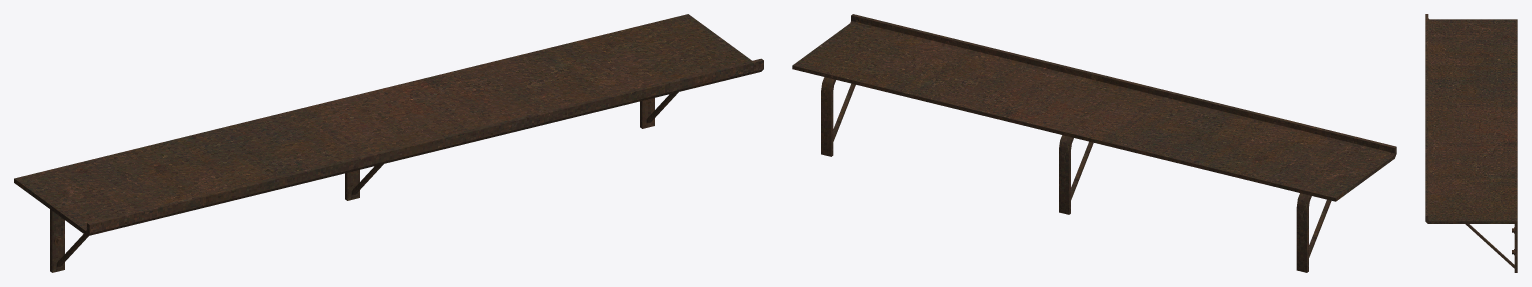
File: hanging_shelf_mx_1_1.glb
The picture shows the model from 3 angles, left to right: view 1: azimuth 30°, elevation 25°; view 2: azimuth 150°, elevation 25°; view 3: azimuth 270°, elevation 25°; orthographic projection. The views are drawn at different scales.
Visible parts, largest first — view 1: hanging_shelf_mx_1_1; view 2: hanging_shelf_mx_1_1; view 3: hanging_shelf_mx_1_1.
Part boxes in pixels (x1=…): hanging_shelf_mx_1_1: x1=14, y1=14, x2=763, y2=272; hanging_shelf_mx_1_1: x1=792, y1=14, x2=1396, y2=272; hanging_shelf_mx_1_1: x1=1425, y1=14, x2=1517, y2=272.
Size of the model in its own units: 1.6 by 0.25 by 0.31.
1 material, 1 textured.
